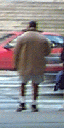person: (17, 19, 47, 109)
